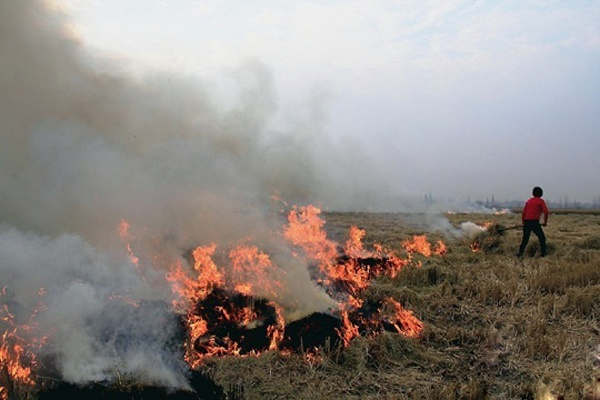fire: (274, 198, 445, 346), (164, 236, 294, 367), (0, 284, 51, 389), (466, 215, 502, 253)
